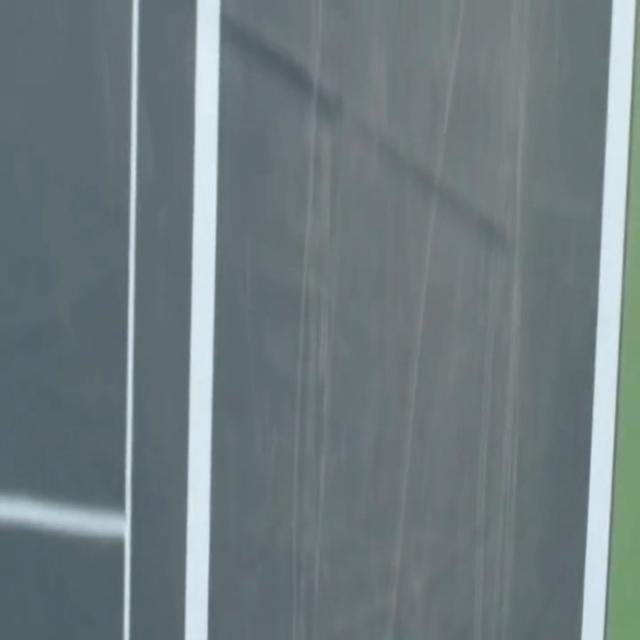center: (184, 0, 220, 639)
right: (580, 0, 636, 639)
